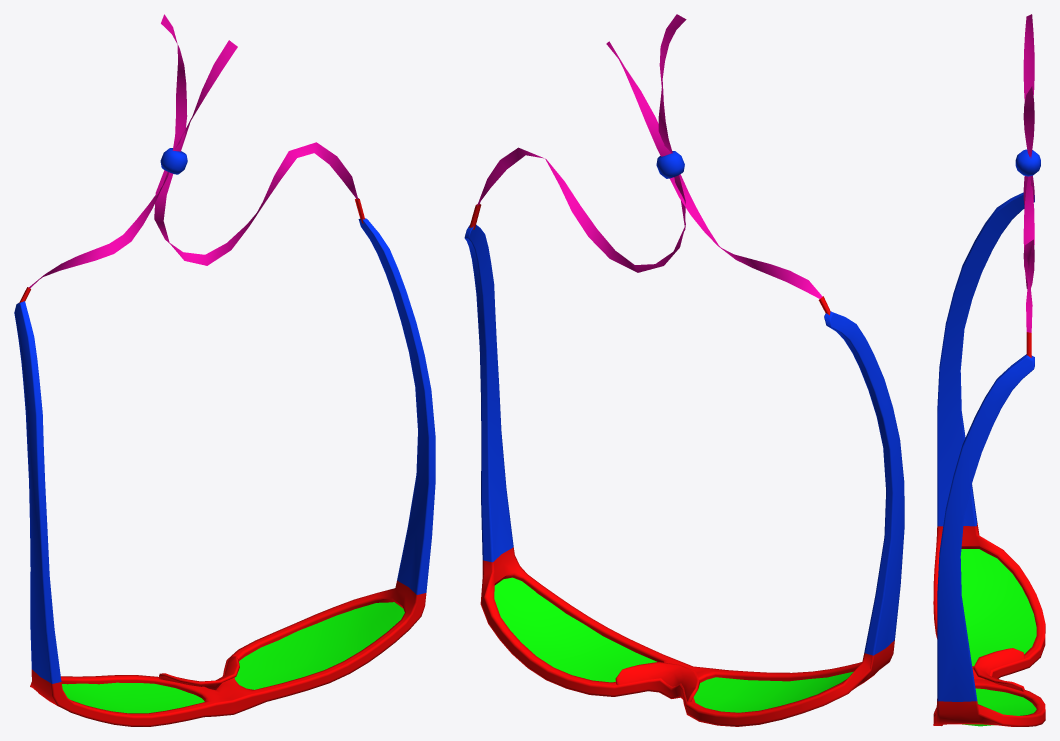
Rendered from Safety_Glasses.FBX.
3 renders of one model, left to right at view 1: azimuth 30°, elevation 25°; view 2: azimuth 150°, elevation 25°; view 3: azimuth 270°, elevation 25°, orthographic. The views are drawn at different scales.
Parts seen in each view (by area): view 1: Glasses; view 2: Glasses; view 3: Glasses.
Boxes of the visible parts, box(x1,y1,x2,y2) form: Glasses: box(14, 14, 435, 726); Glasses: box(464, 14, 904, 726); Glasses: box(933, 14, 1045, 726).
Bounding box in the file's own units: 5.47 × 8.91 × 1.36.
